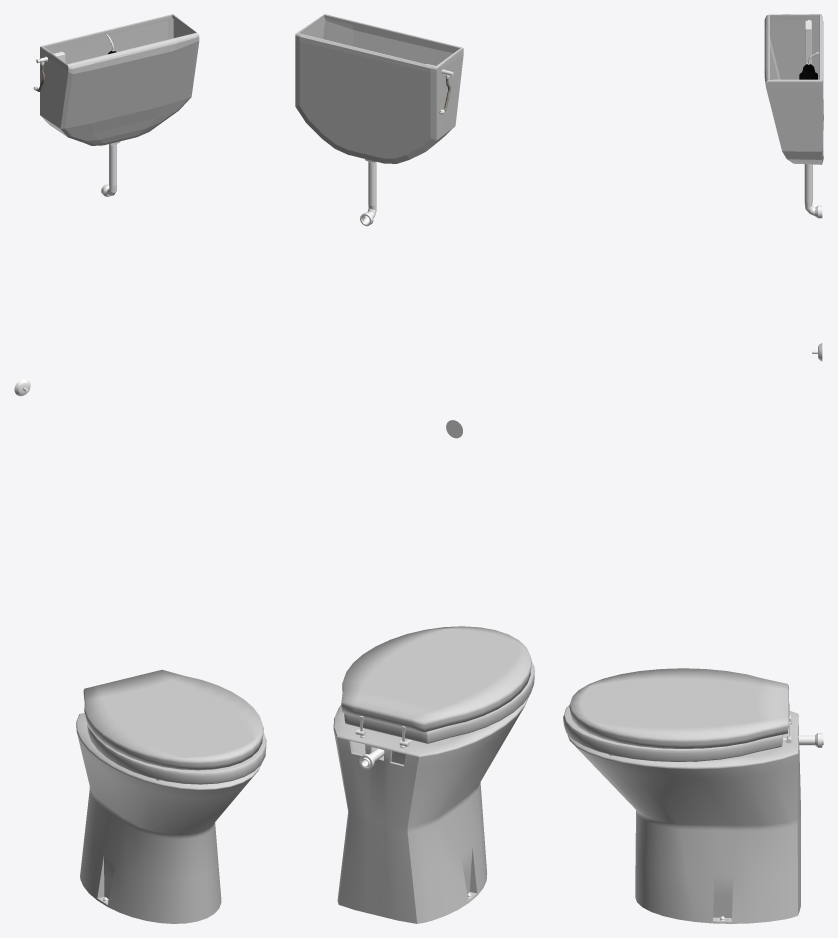
File: toilet_type_3.glb
3 views of the same model, side by side, from view 1: azimuth 30°, elevation 25°; view 2: azimuth 150°, elevation 25°; view 3: azimuth 270°, elevation 25° (orthographic). The views are drawn at different scales.
Visible parts, largest first — view 1: Corpo, Coperchio, Ciambella; view 2: Corpo, Coperchio, Ciambella; view 3: Corpo, Coperchio, Ciambella.
Boxes of the visible parts, box(x1,y1,x2,y2) form: Corpo: box(14, 14, 260, 923); Coperchio: box(83, 669, 263, 770); Ciambella: box(87, 725, 266, 784); Corpo: box(295, 14, 529, 923); Coperchio: box(341, 626, 531, 741); Ciambella: box(344, 660, 534, 743); Corpo: box(567, 14, 823, 923); Coperchio: box(569, 668, 789, 748); Ciambella: box(563, 705, 786, 761).
Bounding box in the file's own units: 0.4276 × 2.07 × 0.5761.
Materials: 6 (1 with a texture image).
